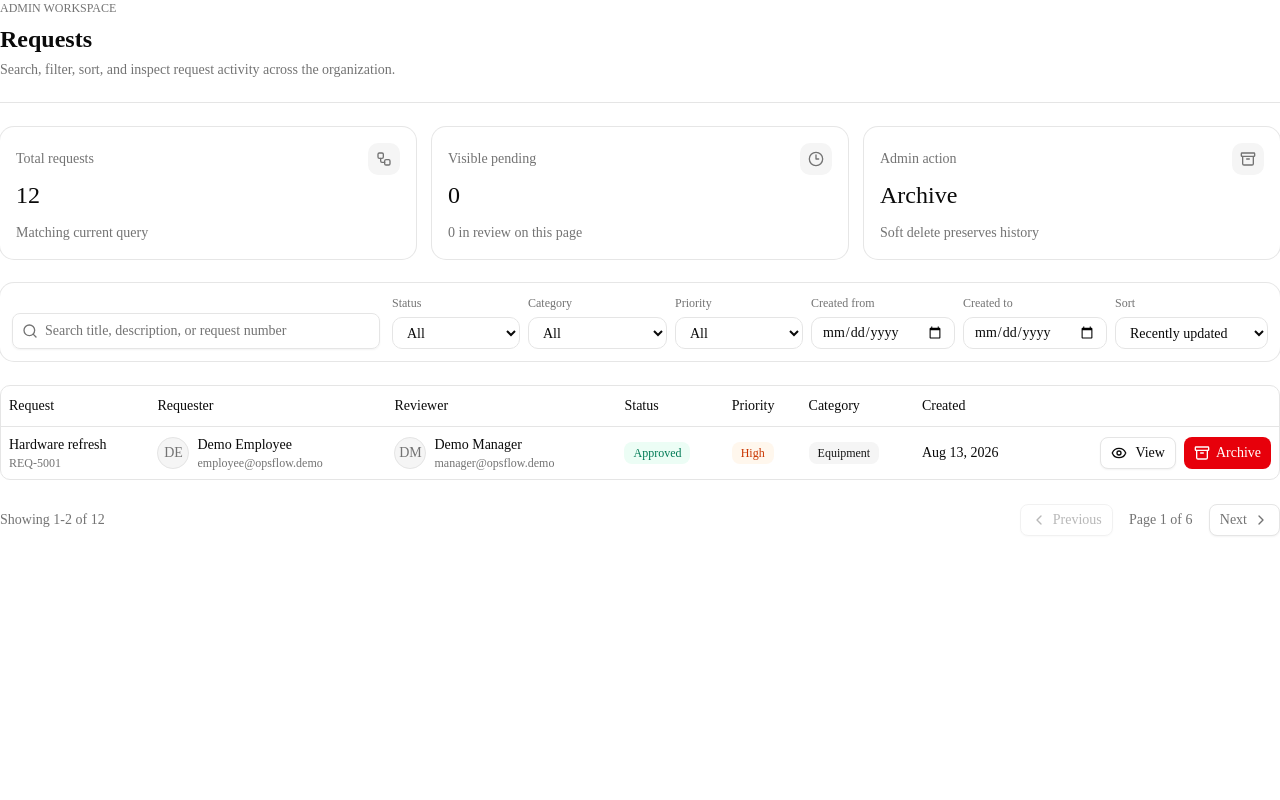
Test: admin request list › archives a request through the permitted Admin delete action
Click the button with aria-label "Archive REQ-5001": (1227, 452) [1184, 436, 1271, 468]
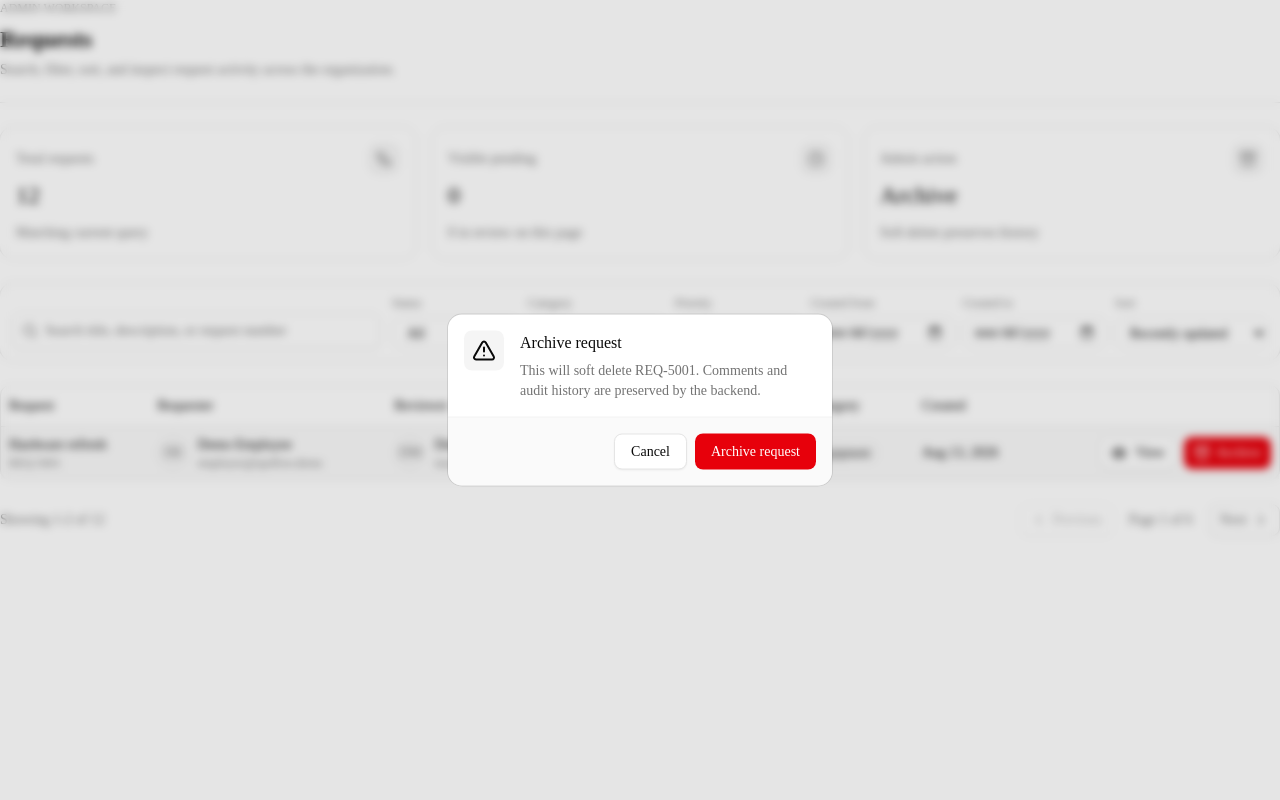
Click the button "Archive request": (756, 452) [695, 434, 816, 470]
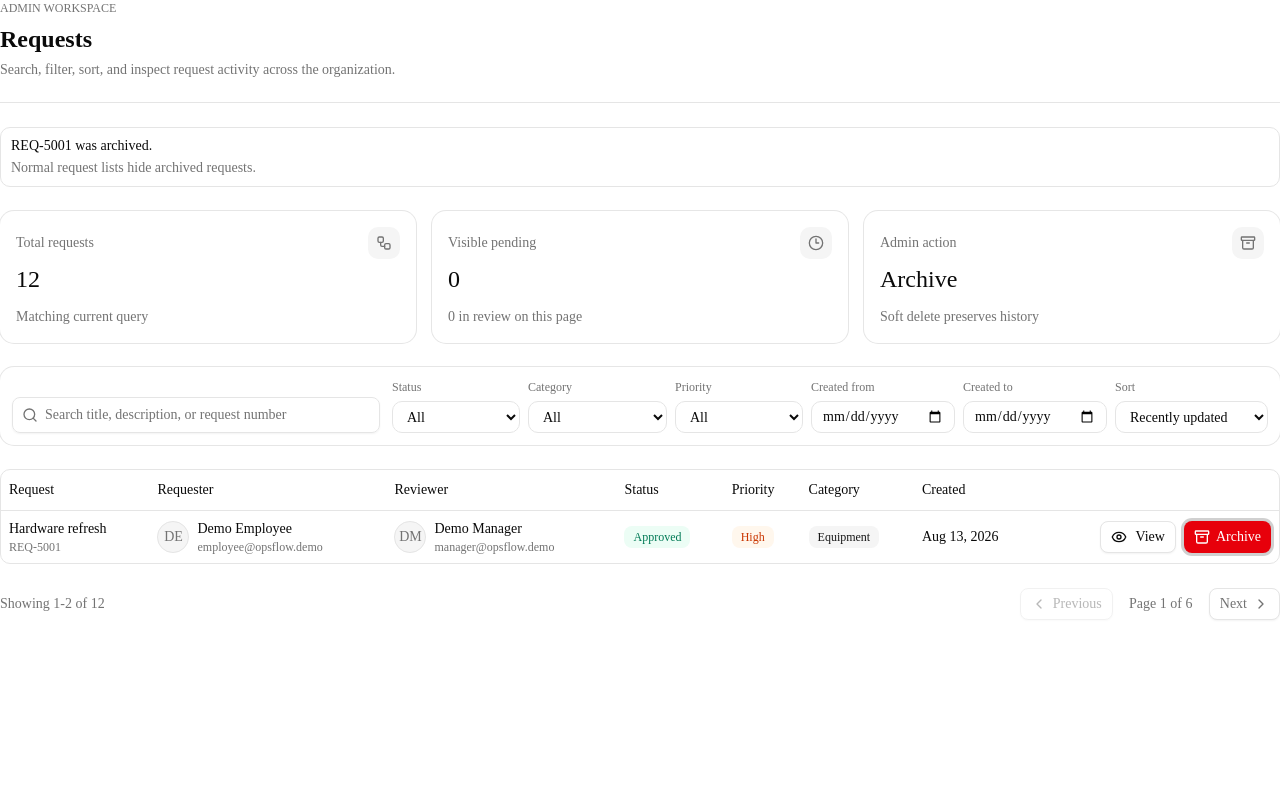
Result: the text "REQ-5001 was archived." is shown at [11, 138, 152, 153]
